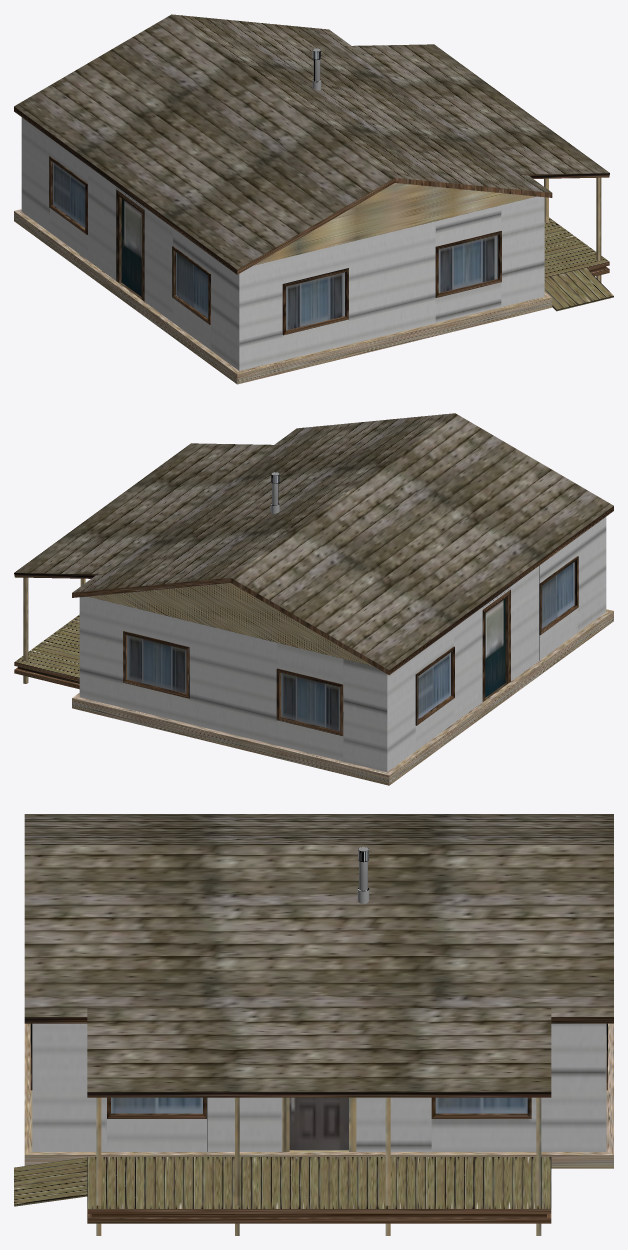
File: casa_p3.glb
3 renders of one model, top to bottom at view 1: azimuth 30°, elevation 25°; view 2: azimuth 150°, elevation 25°; view 3: azimuth 270°, elevation 25°, orthographic. The views are drawn at different scales.
Parts seen in each view (by area): view 1: ext; view 2: ext; view 3: ext.
Part boxes in pixels (x1=…): ext: x1=14, y1=14, x2=613, y2=384; ext: x1=14, y1=413, x2=613, y2=785; ext: x1=14, y1=814, x2=613, y2=1235.
Size of what is drawn, in the model's own units: 9.57 by 4.69 by 9.5.
1 material, 1 textured.
